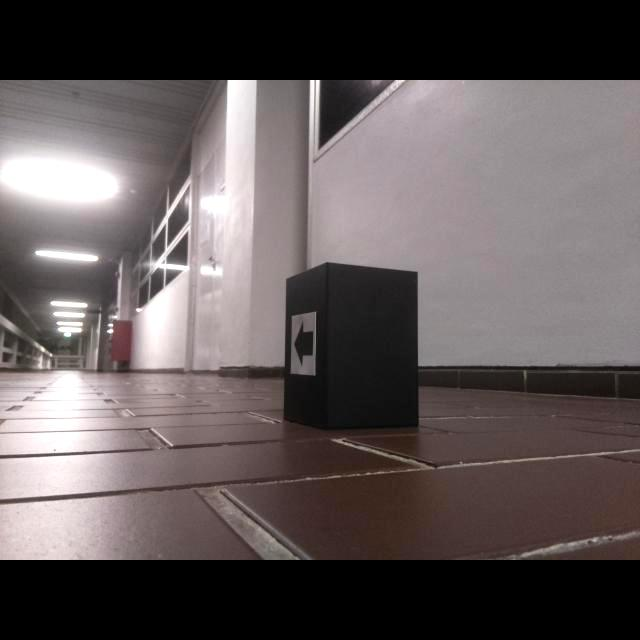LEFT: (293, 320, 313, 368)
